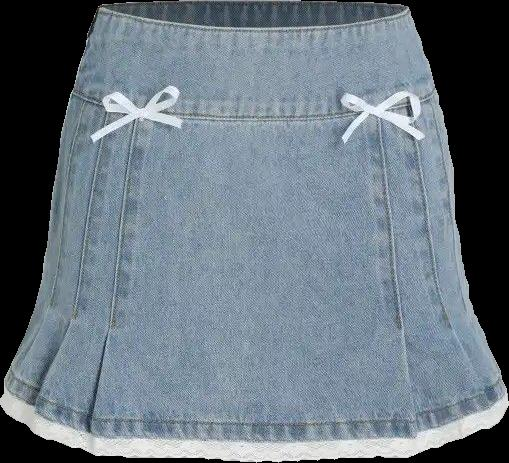Hemline: (5, 375, 508, 443), (0, 399, 508, 462)
Waistline: (69, 87, 437, 121), (99, 3, 410, 32)
